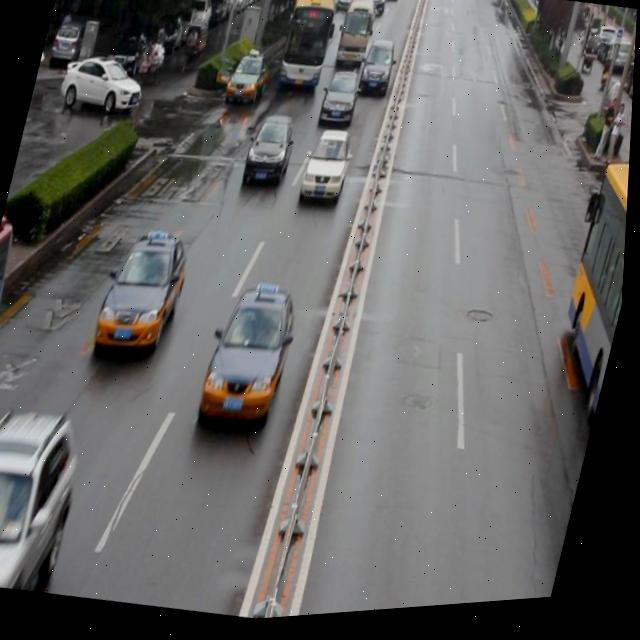car: (0, 396, 92, 598), (200, 282, 303, 434), (99, 231, 193, 361), (298, 129, 357, 219), (242, 112, 300, 192), (223, 55, 272, 120), (317, 73, 363, 136), (356, 42, 399, 103)
truck: (334, 0, 379, 74)
van: (514, 162, 632, 548), (274, 0, 342, 97)
